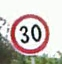limite 30: (8, 12, 49, 55)
